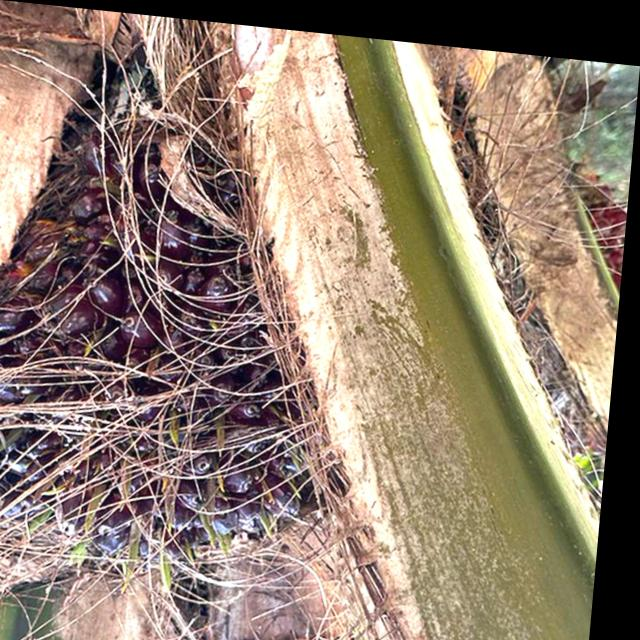almost: (0, 36, 393, 593)
